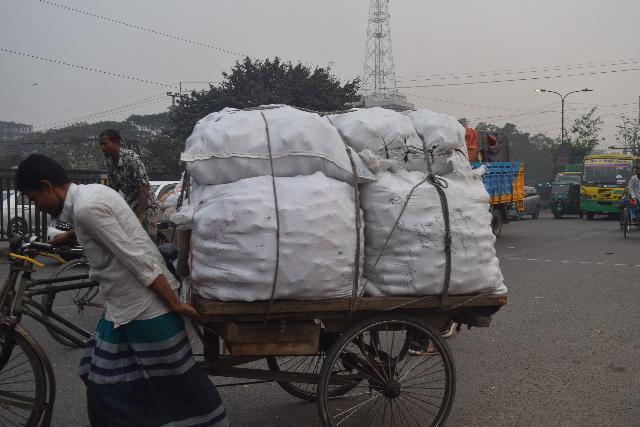bus: (576, 143, 640, 220)
truck: (448, 125, 533, 242)
